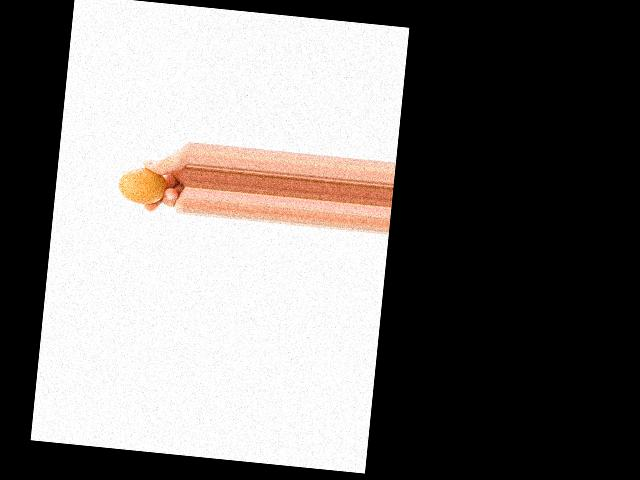egg: (117, 166, 167, 206)
